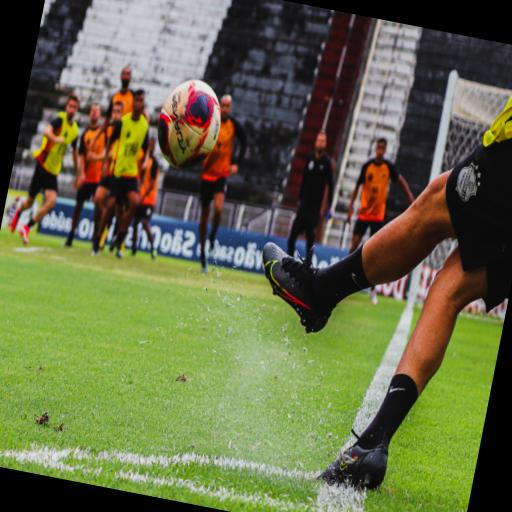shoe: (261, 242, 329, 332), (317, 438, 387, 489), (9, 207, 18, 232), (114, 233, 123, 258), (98, 228, 107, 250), (90, 236, 99, 256), (19, 224, 28, 244), (63, 231, 73, 247), (200, 254, 207, 274), (108, 236, 116, 252), (207, 233, 214, 251), (369, 290, 377, 305), (115, 248, 122, 258), (150, 249, 156, 259), (90, 249, 97, 256), (130, 248, 136, 256)
